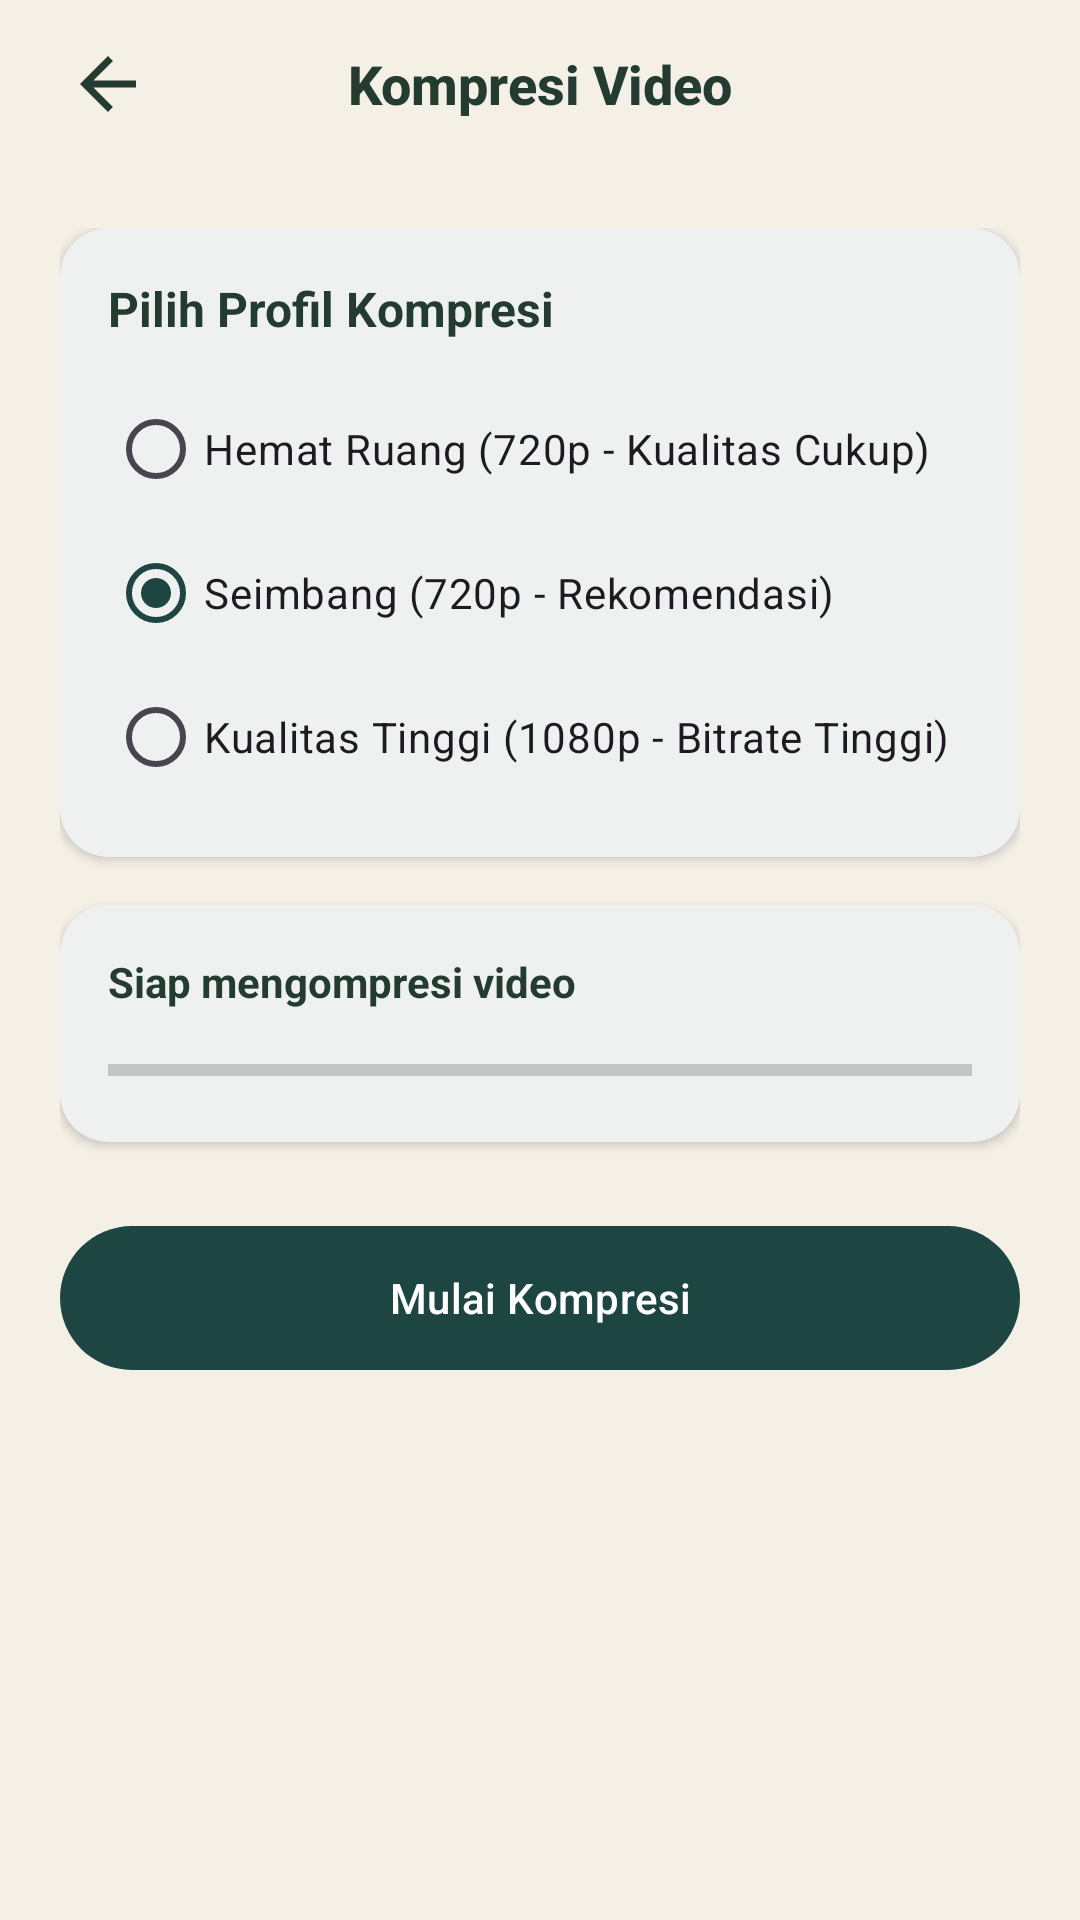

Named icons in this screenshot (1080x1920) and their bounding boxes, [x1, y1, x2, y2]:
Kembali: [80, 56, 136, 112]
